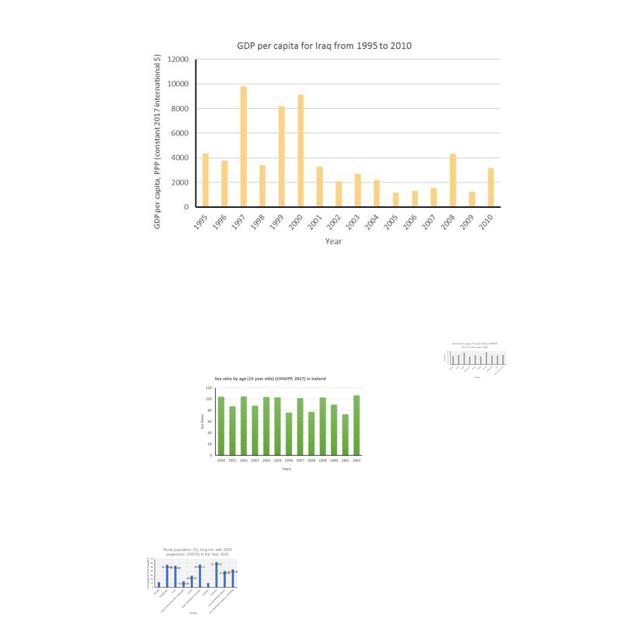Graph: (150, 35, 505, 248), (194, 372, 373, 475), (145, 546, 239, 616), (442, 341, 507, 379)
